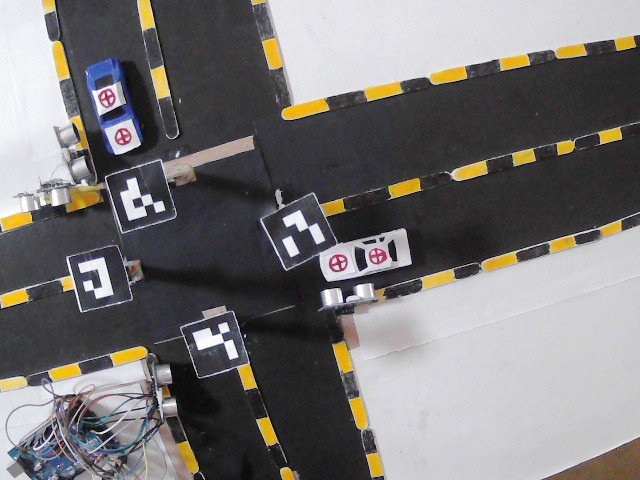aruco_marker: (264, 193, 342, 267), (105, 157, 180, 233), (67, 244, 137, 312), (180, 309, 251, 375)
emergency_vehicle: (82, 56, 145, 156), (321, 226, 414, 281)
uno_breadboard: (4, 390, 129, 480), (53, 124, 92, 185), (10, 180, 72, 216), (148, 362, 180, 425), (320, 281, 377, 315)
